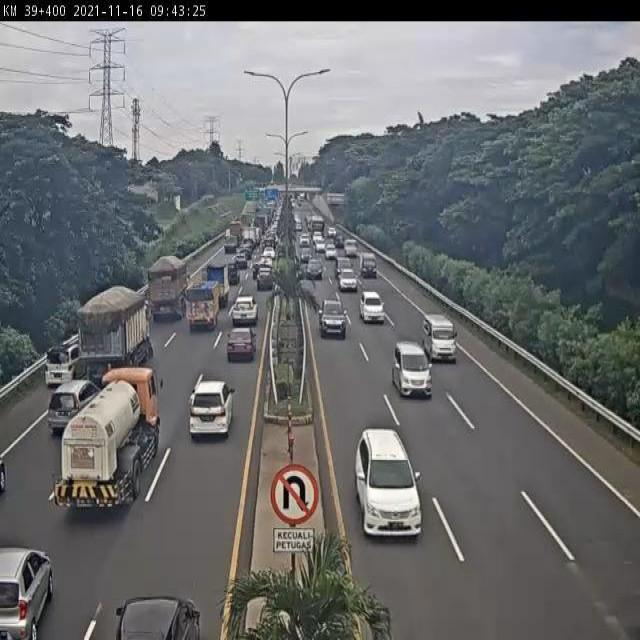car: (349, 423, 431, 548), (108, 576, 216, 640), (0, 550, 71, 640), (24, 340, 82, 404), (42, 383, 99, 444), (188, 374, 237, 442), (391, 344, 435, 405), (217, 327, 259, 376), (422, 314, 459, 366), (317, 297, 349, 343), (198, 264, 230, 305), (223, 299, 261, 333), (360, 286, 386, 326), (303, 252, 327, 285), (338, 267, 363, 297), (253, 269, 274, 296), (220, 231, 241, 257), (247, 260, 267, 284), (339, 235, 359, 256), (226, 259, 242, 285), (231, 254, 250, 270), (323, 240, 340, 257)
small truck: (182, 282, 225, 338), (354, 249, 376, 279)
truck-m-: (50, 364, 177, 532), (73, 283, 155, 387), (142, 250, 193, 330)
